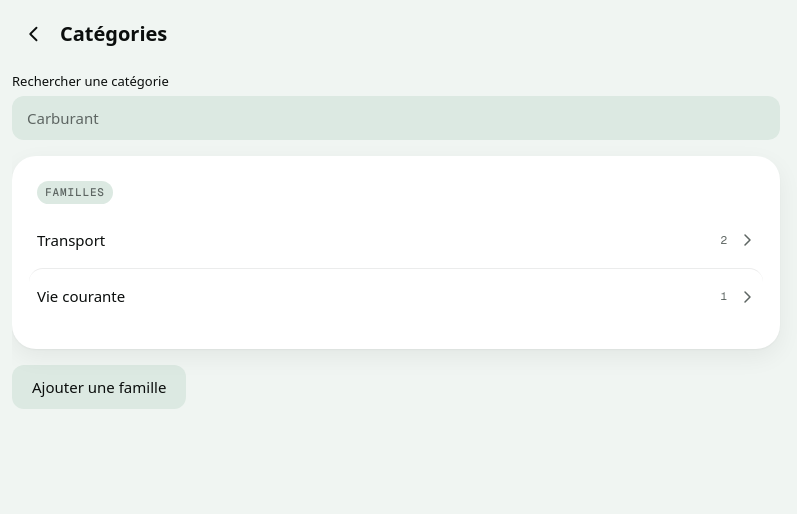
Test: le catalogue › retrouve une catégorie sans ouvrir sa famille, et nomme celle-ci
The width and height of the screenshot is (797, 514).
Type "carbu" into the search field labelled "Rechercher une catégorie" at (396, 118), box left=12, top=96, right=780, bottom=140
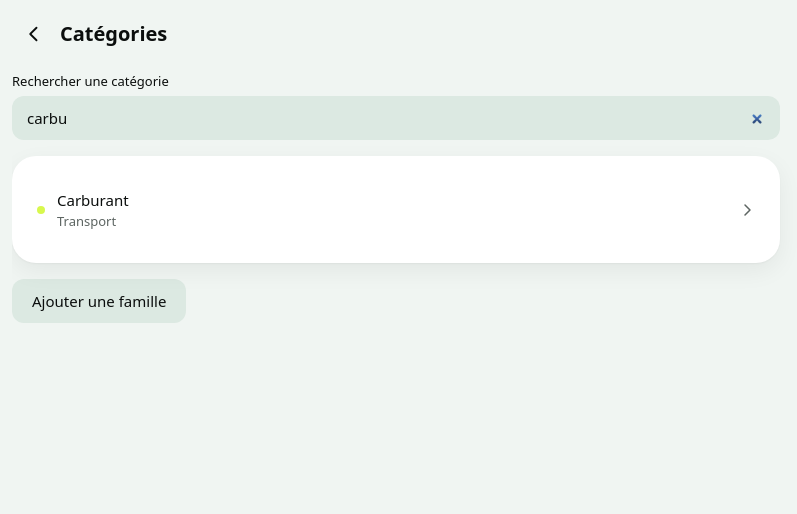
Check: the link "Carburant Transport" is shown
Check: the link "Vie courante" is gone
Click the link "Carburant Transport" at (93, 200), box left=29, top=181, right=763, bottom=238
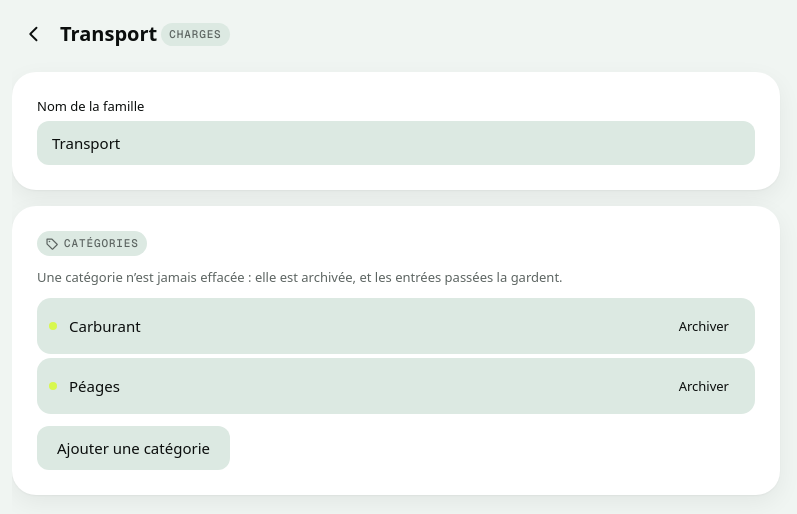
Check: the heading reads "Transport", box left=60, top=20, right=157, bottom=47
